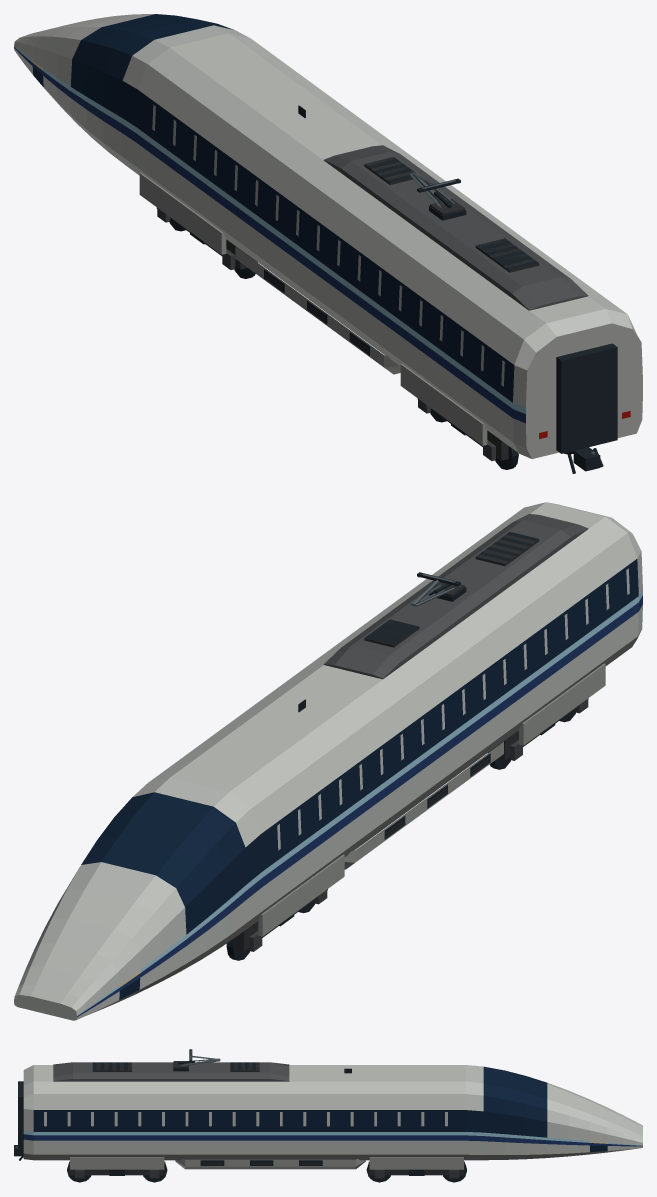
File: express-power-car.glb
3 views of the same model, one above another, from view 1: azimuth 30°, elevation 25°; view 2: azimuth 150°, elevation 25°; view 3: azimuth 270°, elevation 25° (orthographic). The views are drawn at different scales.
Visible parts, largest first — view 1: express-power-car (×2); view 2: express-power-car (×2); view 3: express-power-car (×2).
Part boxes in pixels (box(x1,y1,x2,y2)): express-power-car (×2): box(14, 14, 642, 473); express-power-car (×2): box(14, 502, 642, 1020); express-power-car (×2): box(14, 1049, 642, 1182).
Size of the model in its own units: 8.5 by 13.23 by 64.
